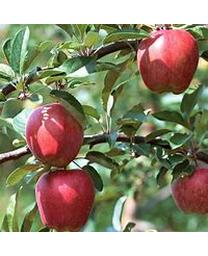apple: (136, 28, 198, 94), (24, 102, 83, 167), (34, 168, 95, 228), (169, 165, 207, 216)
